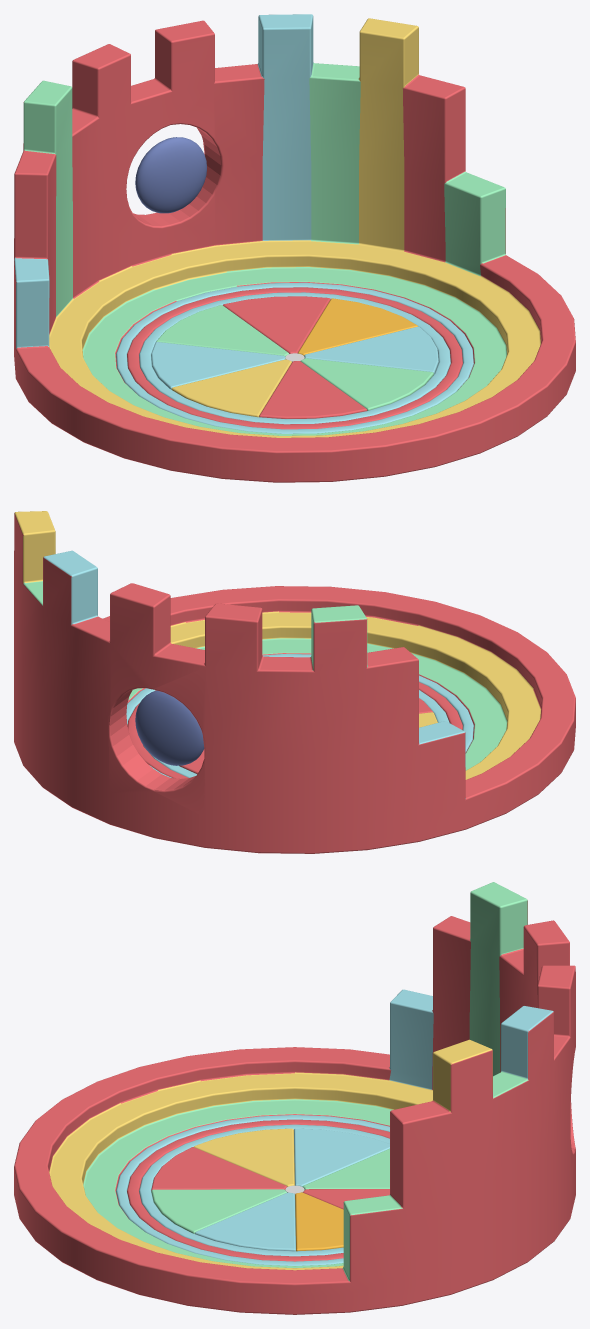
File: spinPlatform2.glb
3 renders of one model, top to bottom at view 1: azimuth 30°, elevation 25°; view 2: azimuth 150°, elevation 25°; view 3: azimuth 270°, elevation 25°, orthographic.
Visible parts, largest first — view 1: Stadium, OuterRing.001, OuterRing.002, OuterRing, Sphere, PieMesh.016, PieMesh.010, PieMesh.001, PieMesh.015, PieMesh.013, PieMesh.011, PieMesh.012 (+1 smaller); view 2: Stadium, Sphere, OuterRing.001, OuterRing.002, OuterRing; view 3: Stadium, OuterRing.001, PieMesh.010, PieMesh.011, OuterRing.002, PieMesh.016, PieMesh.001, PieMesh.015, OuterRing, PieMesh.012, PieMesh.014, PieMesh.013.
Boxes of the visible parts, bbox=[...] form: Stadium: bbox=[14, 14, 575, 482]; OuterRing.001: bbox=[127, 287, 462, 429]; OuterRing.002: bbox=[116, 282, 473, 433]; OuterRing: bbox=[139, 292, 450, 424]; Sphere: bbox=[135, 137, 206, 213]; PieMesh.016: bbox=[171, 359, 291, 417]; PieMesh.010: bbox=[300, 358, 433, 410]; PieMesh.001: bbox=[259, 361, 367, 418]; PieMesh.015: bbox=[151, 342, 285, 389]; PieMesh.013: bbox=[223, 296, 330, 353]; PieMesh.011: bbox=[304, 326, 438, 374]; PieMesh.012: bbox=[298, 298, 418, 355]; Stadium: bbox=[14, 511, 575, 853]; Sphere: bbox=[135, 690, 204, 765]; OuterRing.001: bbox=[127, 682, 462, 778]; OuterRing.002: bbox=[126, 654, 473, 777]; OuterRing: bbox=[143, 690, 449, 777]; Stadium: bbox=[14, 882, 575, 1314]; OuterRing.001: bbox=[127, 1119, 389, 1261]; PieMesh.010: bbox=[151, 1189, 286, 1233]; PieMesh.011: bbox=[195, 1192, 295, 1251]; OuterRing.002: bbox=[116, 1115, 389, 1265]; PieMesh.016: bbox=[194, 1128, 294, 1186]; PieMesh.001: bbox=[151, 1147, 286, 1190]; PieMesh.015: bbox=[294, 1128, 389, 1186]; OuterRing: bbox=[139, 1124, 389, 1256]; PieMesh.012: bbox=[295, 1192, 343, 1251]; PieMesh.014: bbox=[302, 1148, 389, 1189]; PieMesh.013: bbox=[303, 1189, 389, 1209].
Size of what is drawn, in the model's own units: 82.6 by 37.62 by 82.6.
